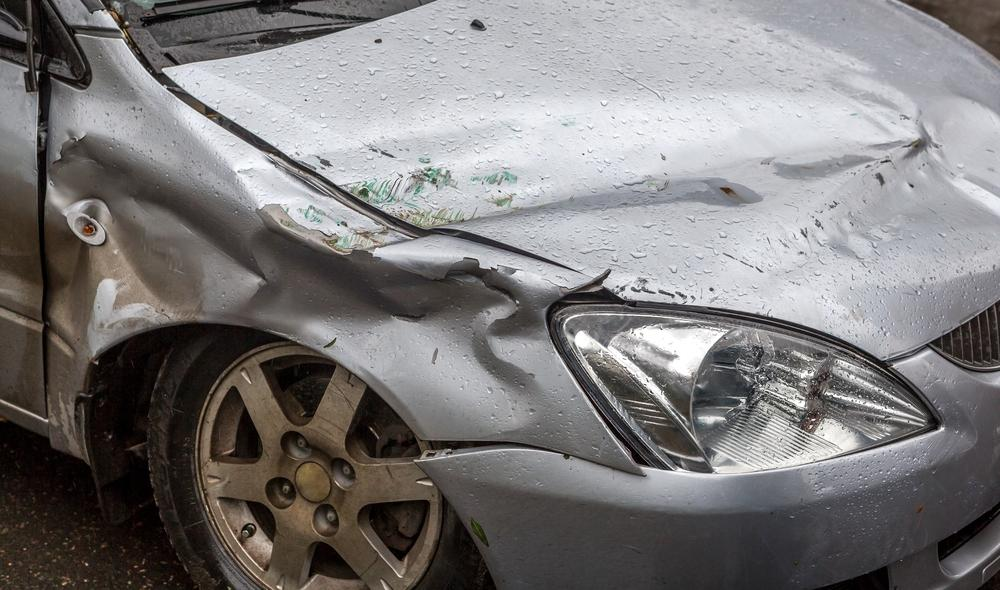dent: (291, 73, 1000, 298), (45, 132, 548, 434)
